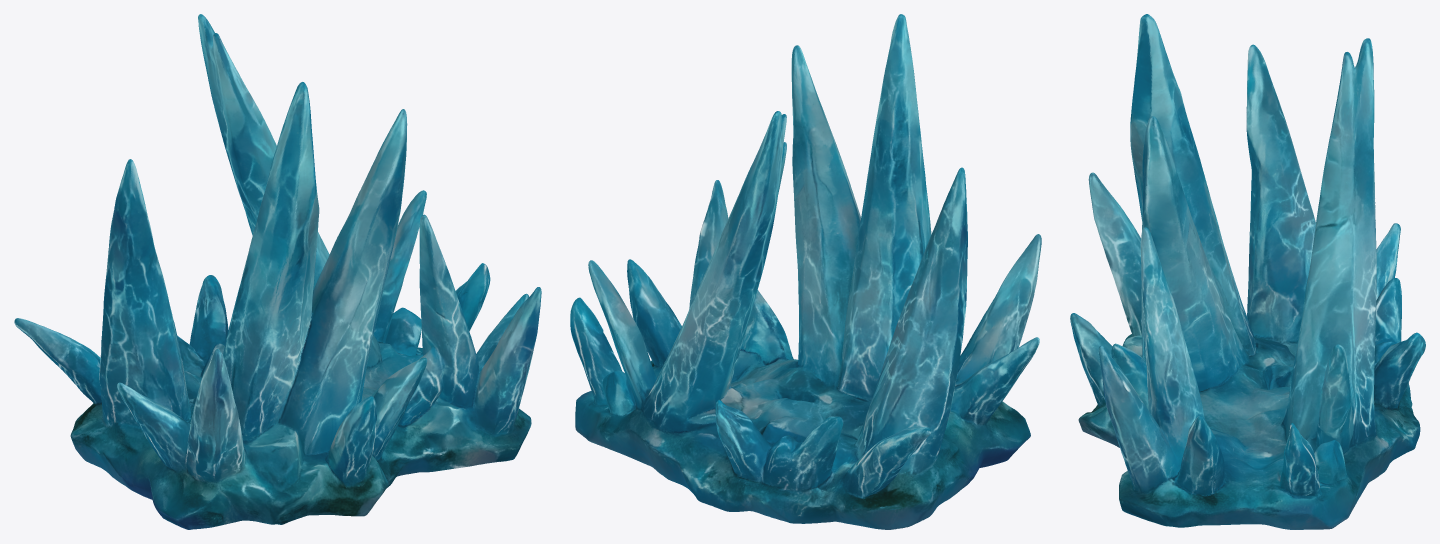
File: stylized-icicles.........glb
3 views of the same model, side by side, from view 1: azimuth 30°, elevation 25°; view 2: azimuth 150°, elevation 25°; view 3: azimuth 270°, elevation 25° (orthographic). The views are drawn at different scales.
Parts seen in each view (by area): view 1: world_0; view 2: world_0; view 3: world_0.
Part boxes in pixels (x1,y1,x2,y2): world_0: [14, 14, 541, 529]; world_0: [570, 14, 1041, 529]; world_0: [1070, 14, 1425, 529].
Size of the model in its own units: 1 by 0.9405 by 0.7474.
Materials: 1 (1 with a texture image).
